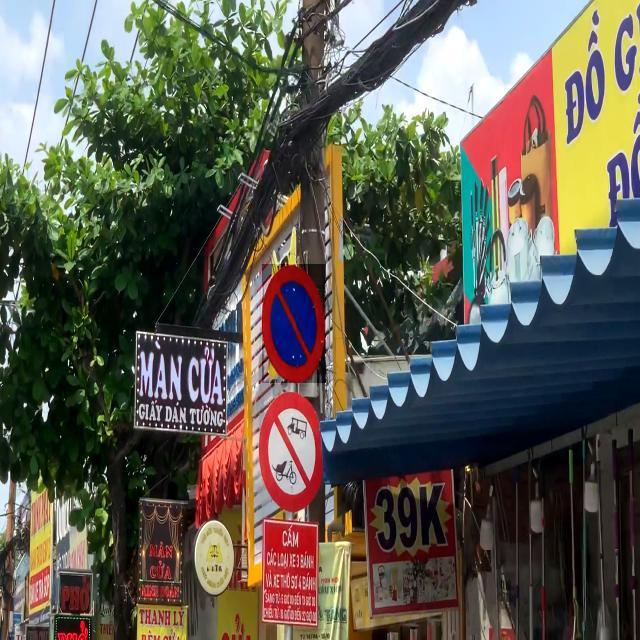P-131a: (262, 264, 326, 383)
